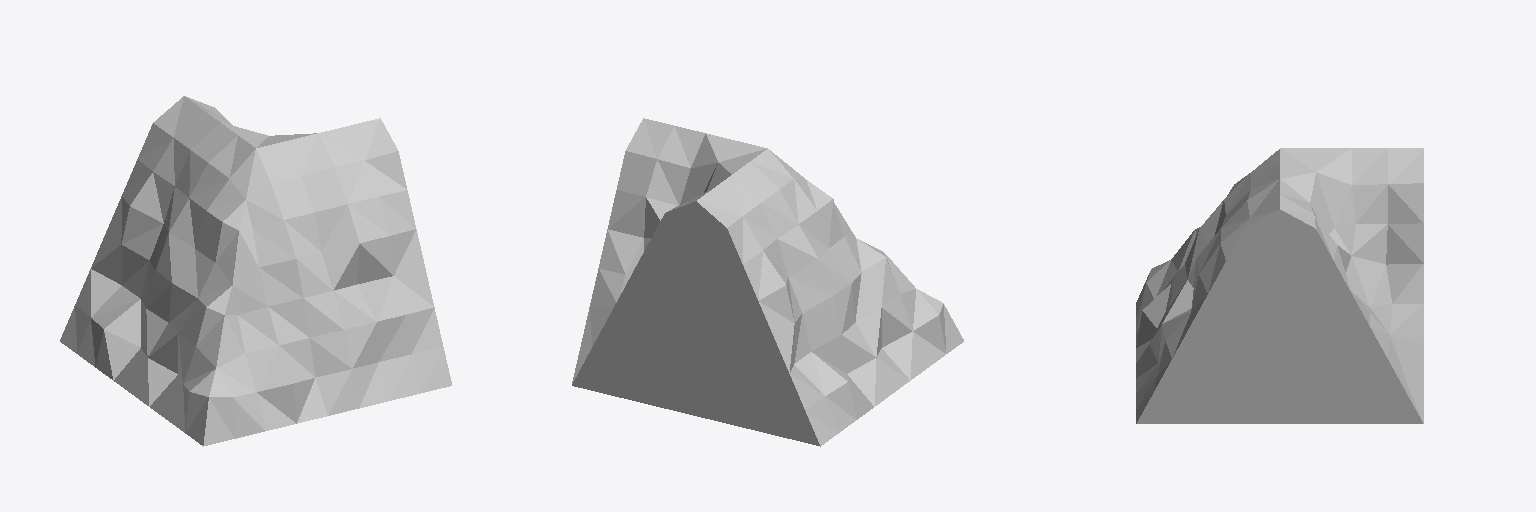
Rendered from kinked_wall.obj.
3 renders of one model, left to right at view 1: azimuth 30°, elevation 25°; view 2: azimuth 150°, elevation 25°; view 3: azimuth 270°, elevation 25°, orthographic.
Visible parts, largest first — view 1: Cube.010_Cube.001; view 2: Cube.010_Cube.001; view 3: Cube.010_Cube.001.
Part boxes in pixels (x1,y1,x2,y2): Cube.010_Cube.001: (60, 96, 451, 446); Cube.010_Cube.001: (572, 118, 963, 446); Cube.010_Cube.001: (1136, 148, 1423, 423).
Size of the model in its own units: 1 by 0.825 by 1.